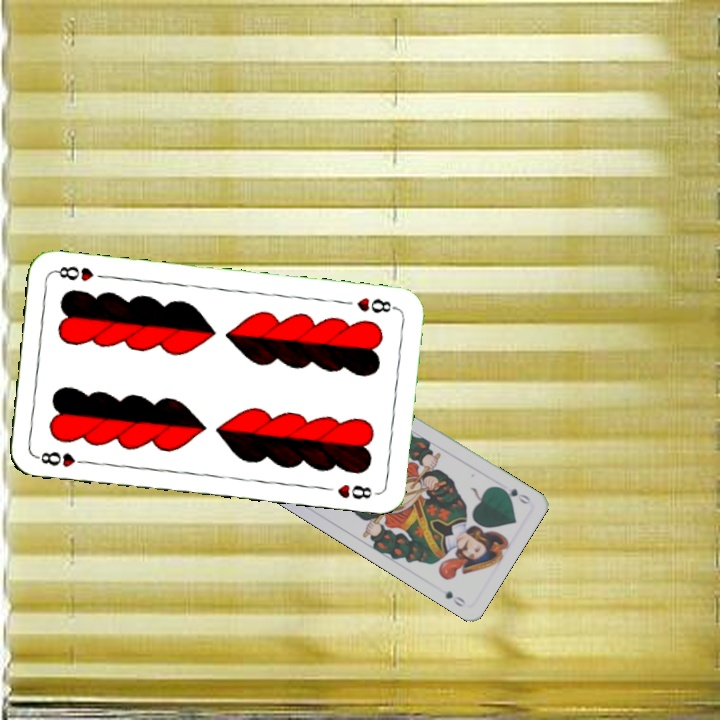GO: (495, 483, 533, 507)
H8: (32, 447, 92, 469), (352, 293, 400, 316)
